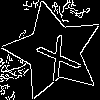X: (29, 26, 83, 82)
